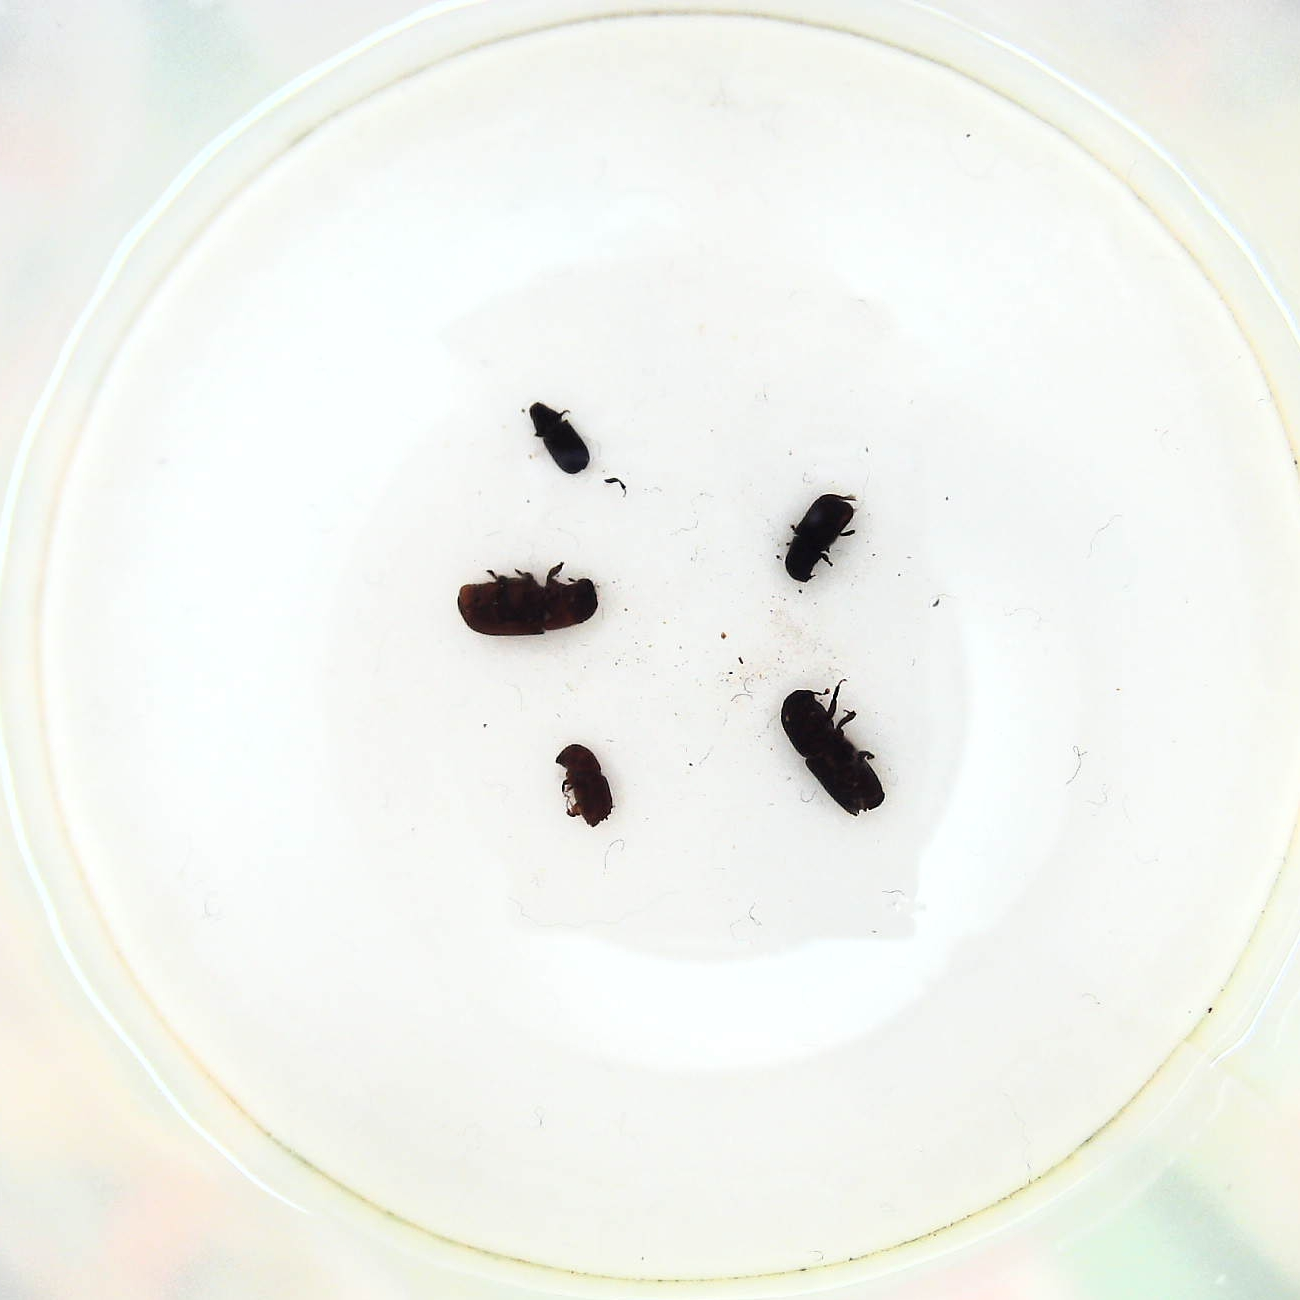Boerner: (779, 679, 890, 821)
Leconte: (452, 561, 601, 644)
armandi: (785, 487, 854, 585)
coleoptera: (525, 402, 590, 480)
linnaeus: (554, 739, 618, 835)
